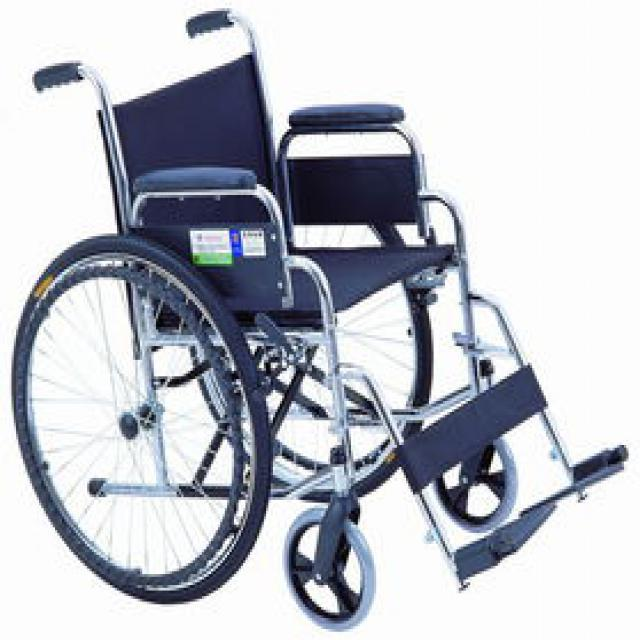wheelchair: (5, 3, 638, 632)
